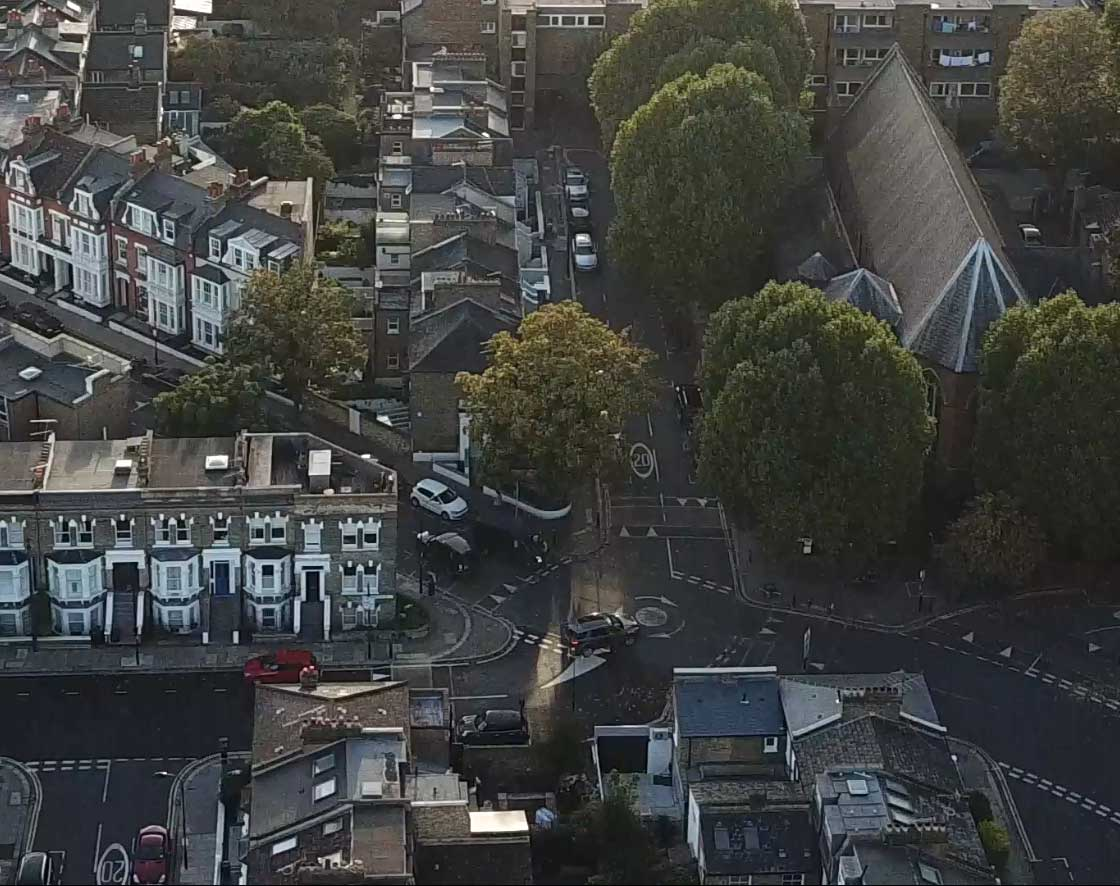car: (233, 640, 340, 687), (405, 465, 473, 527), (556, 612, 652, 652), (452, 705, 538, 748), (126, 816, 177, 886)
road: (899, 616, 1119, 761), (489, 546, 735, 673), (603, 383, 715, 552)
tree: (700, 266, 950, 601), (586, 51, 839, 285), (467, 300, 663, 487), (213, 265, 379, 411)
